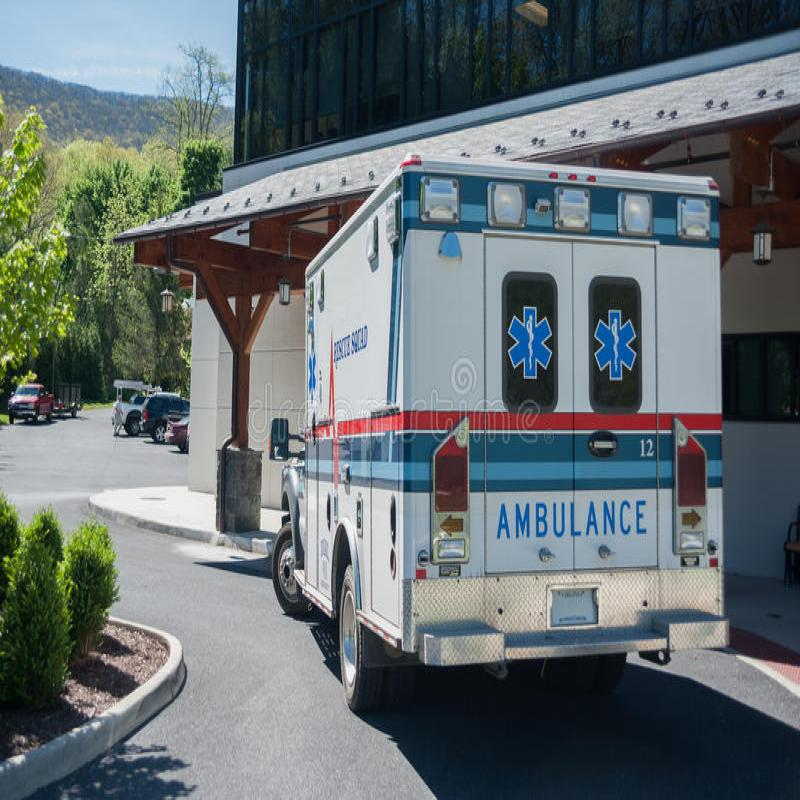ambulance: (282, 149, 736, 721)
